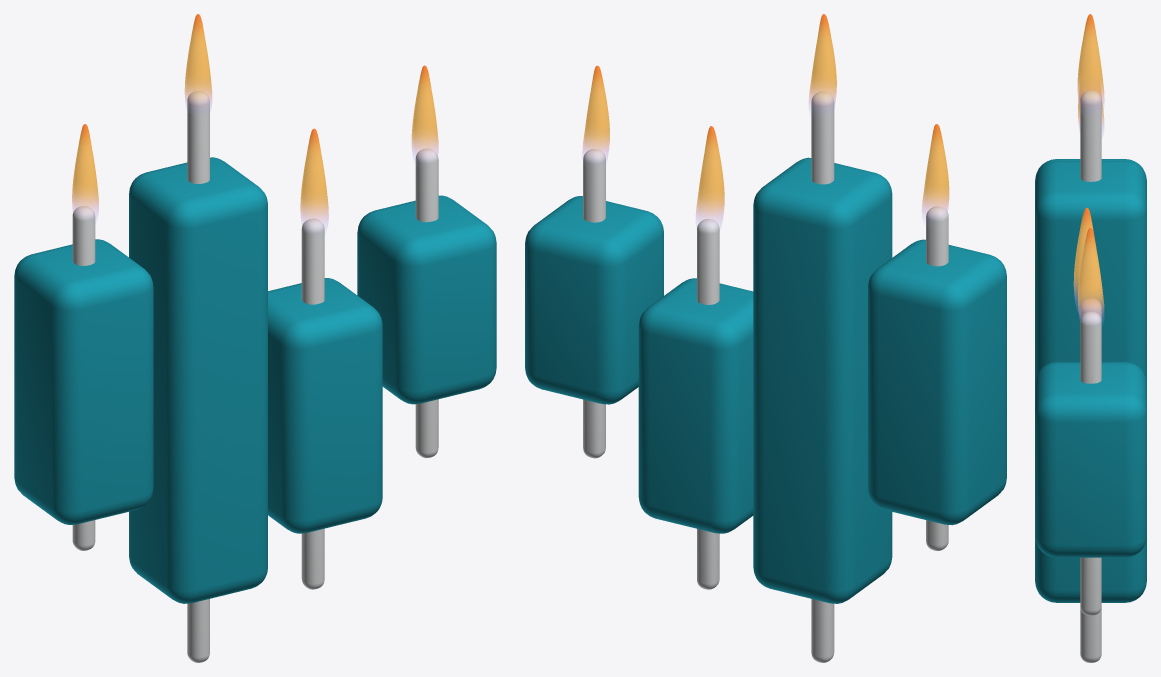
The model's file is JapaneseCandleMulti.glb.
3 renders of one model, left to right at view 1: azimuth 30°, elevation 25°; view 2: azimuth 150°, elevation 25°; view 3: azimuth 270°, elevation 25°, orthographic.
Parts seen in each view (by area): view 1: XBase, XRope01, Flame.001, Flame, Flame.002, Flame.003; view 2: XBase, XRope01, Flame.001, Flame, Flame.002, Flame.003; view 3: XBase, XRope01, Flame, Flame.002, Flame.001, Flame.003.
Part boxes in pixels (x1,y1,x2,y2): XBase: [14, 157, 496, 603]; XRope01: [72, 91, 438, 662]; Flame.001: [300, 128, 328, 229]; Flame: [184, 14, 212, 111]; Flame.002: [411, 65, 438, 161]; Flame.003: [72, 124, 98, 219]; XBase: [525, 157, 1006, 603]; XRope01: [583, 91, 948, 662]; Flame.001: [695, 126, 724, 228]; Flame: [808, 14, 836, 112]; Flame.002: [582, 65, 609, 161]; Flame.003: [922, 124, 949, 219]; XBase: [1035, 159, 1146, 602]; XRope01: [1080, 91, 1101, 662]; Flame: [1077, 14, 1104, 111]; Flame.002: [1078, 228, 1104, 323]; Flame.001: [1073, 207, 1093, 309]; Flame.003: [1078, 85, 1104, 135].
Bounding box in the file's own units: 1.65 × 2.31 × 0.3674.
3 materials, 1 textured.
